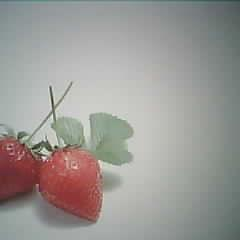straw-ripe: (40, 148, 103, 222), (0, 133, 41, 202)
